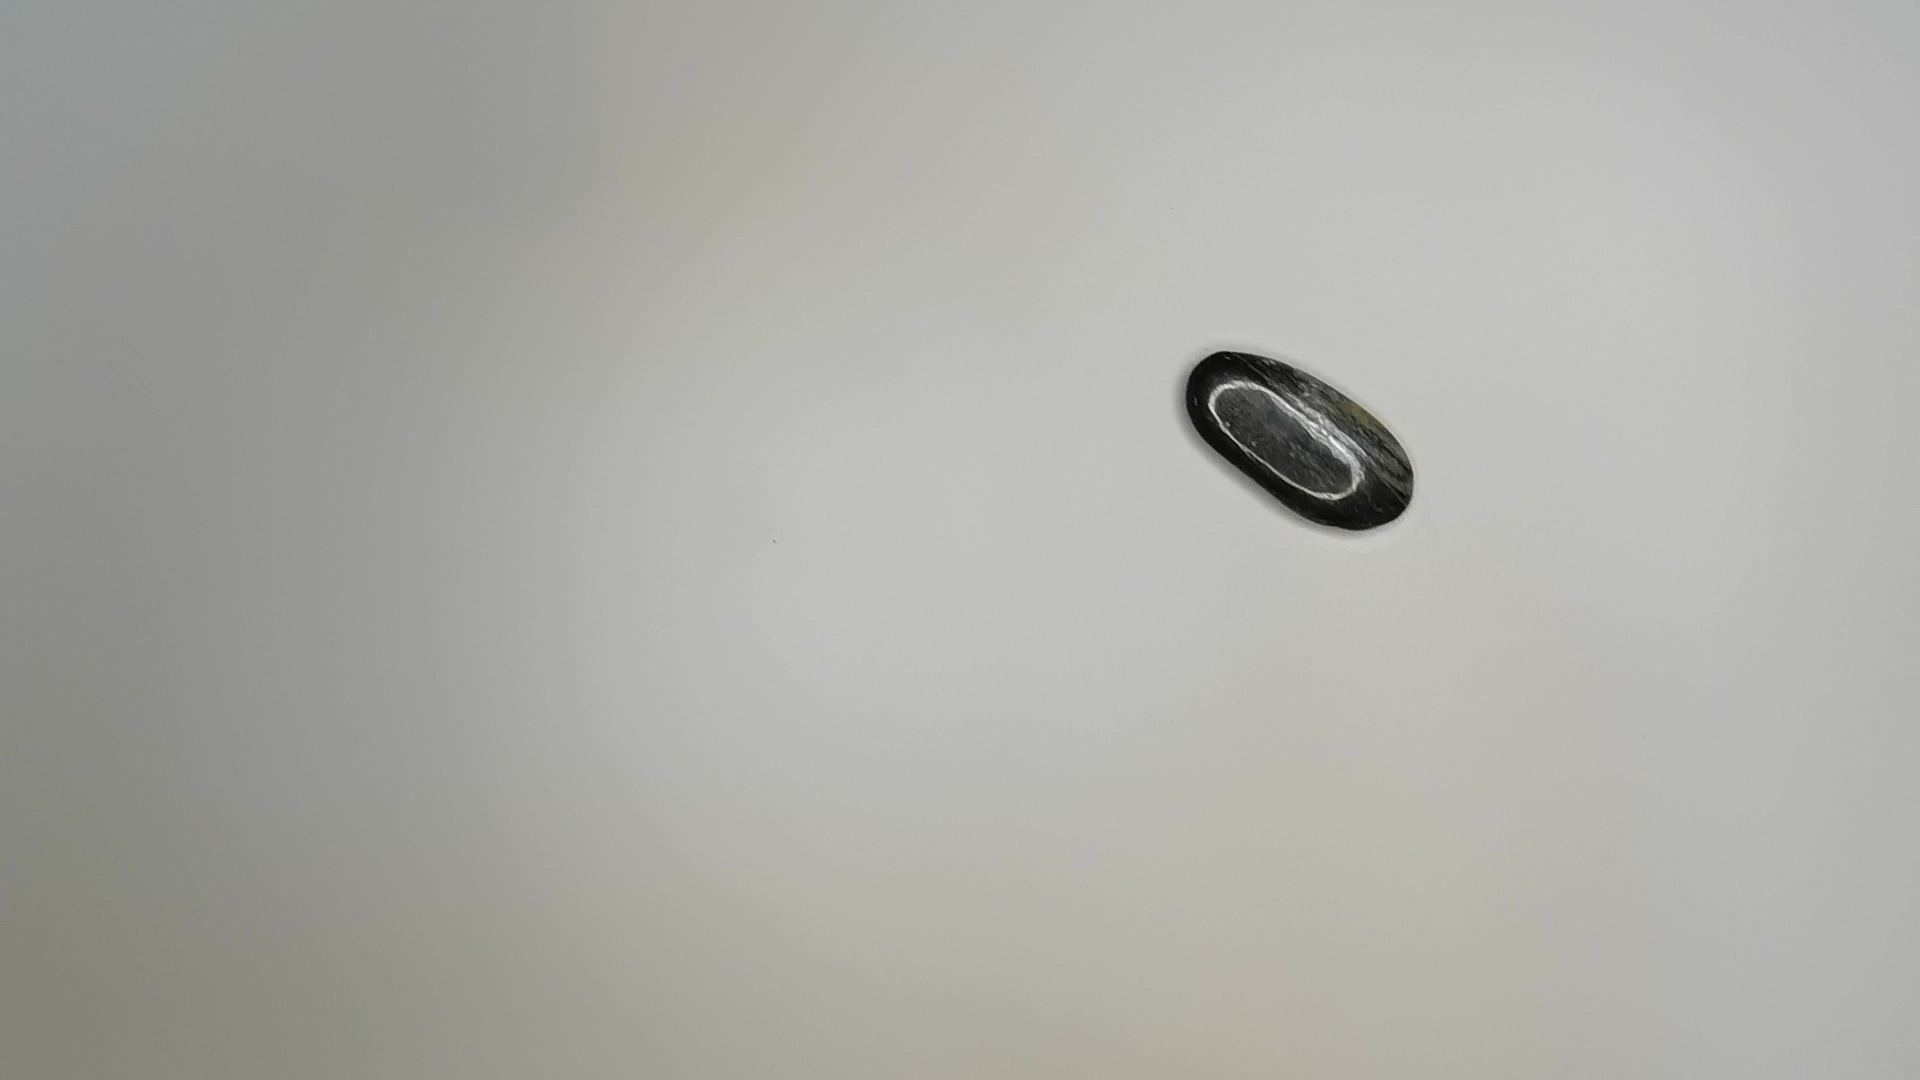ceramic: (1178, 339, 1425, 541)
